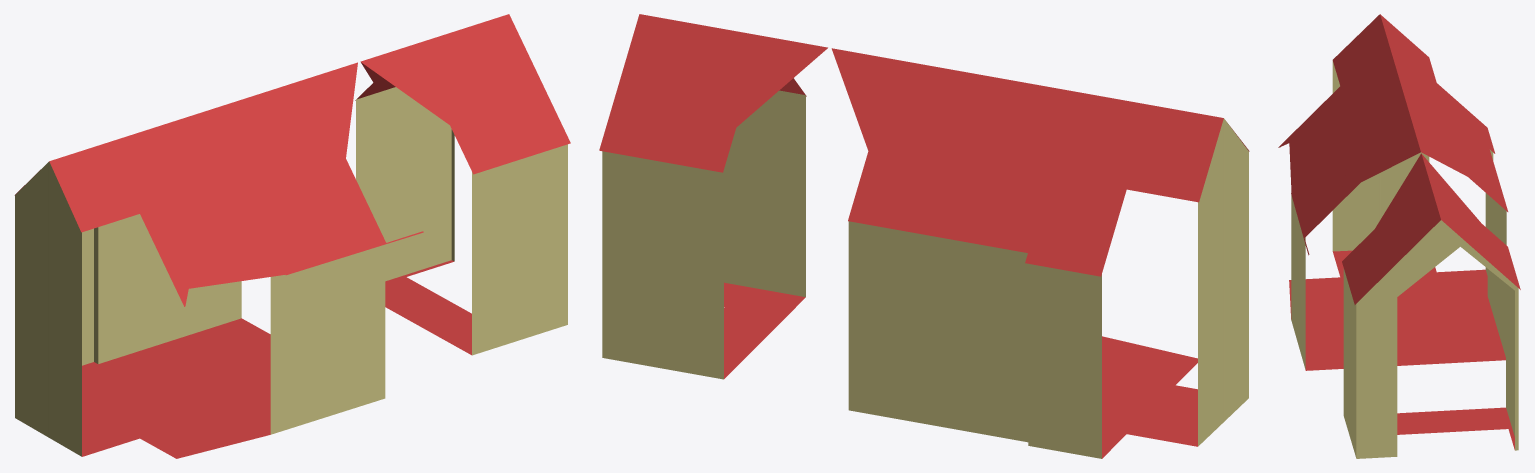
3 views of the same model, side by side, from view 1: azimuth 30°, elevation 25°; view 2: azimuth 150°, elevation 25°; view 3: azimuth 270°, elevation 25° (orthographic). The views are drawn at different scales.
Size of the model in its own units: 66.51 by 32.02 by 34.26.
